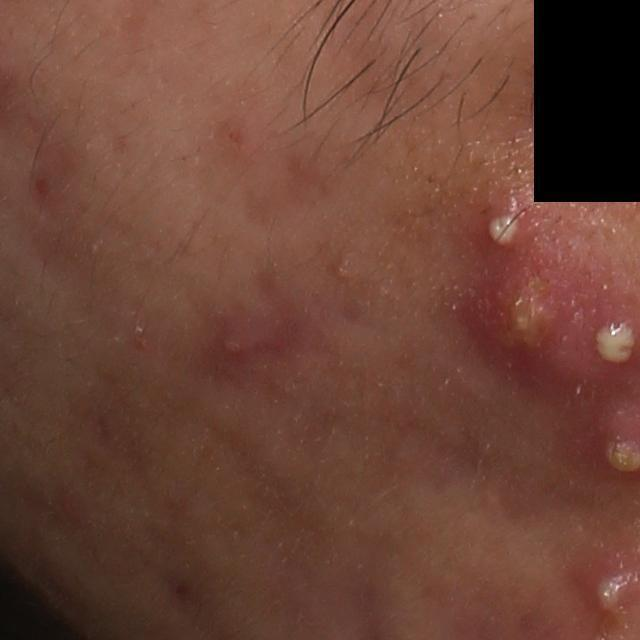comedo: (329, 255, 356, 282)
